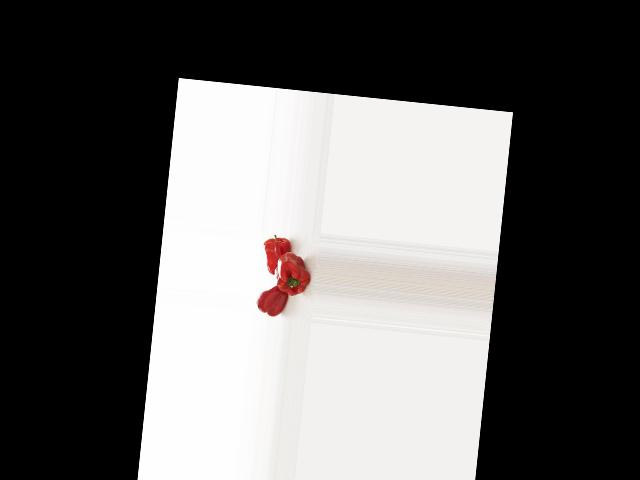bell_pepper: (255, 286, 290, 319)
